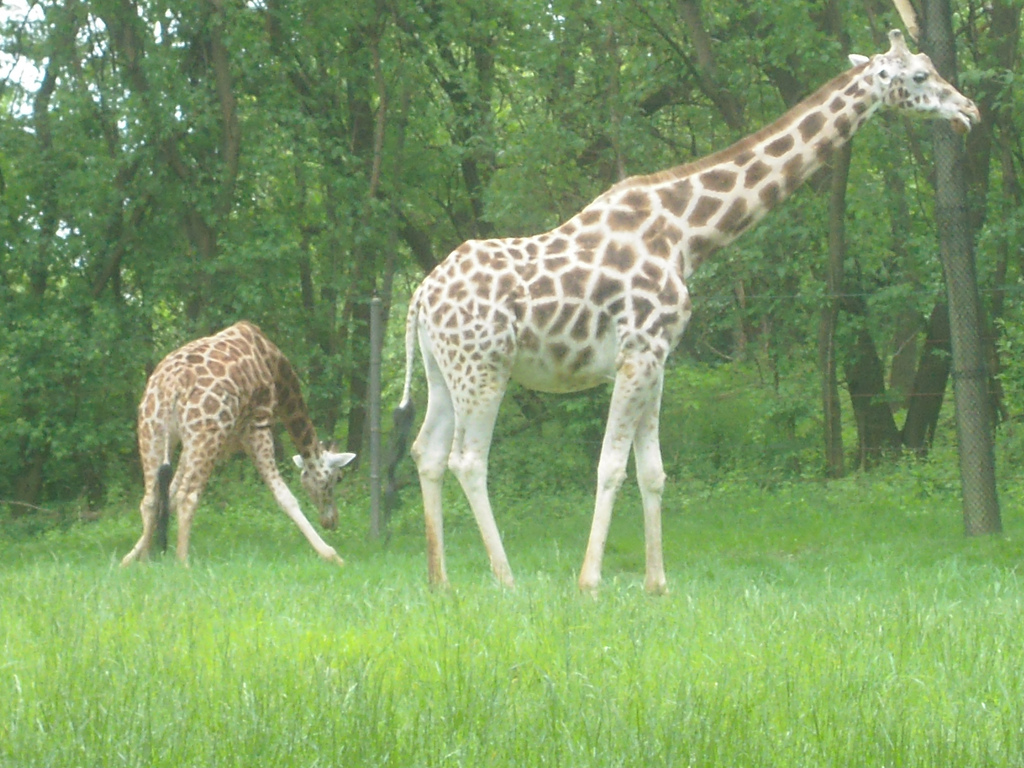giraffe: (396, 27, 991, 636), (124, 272, 373, 589)
